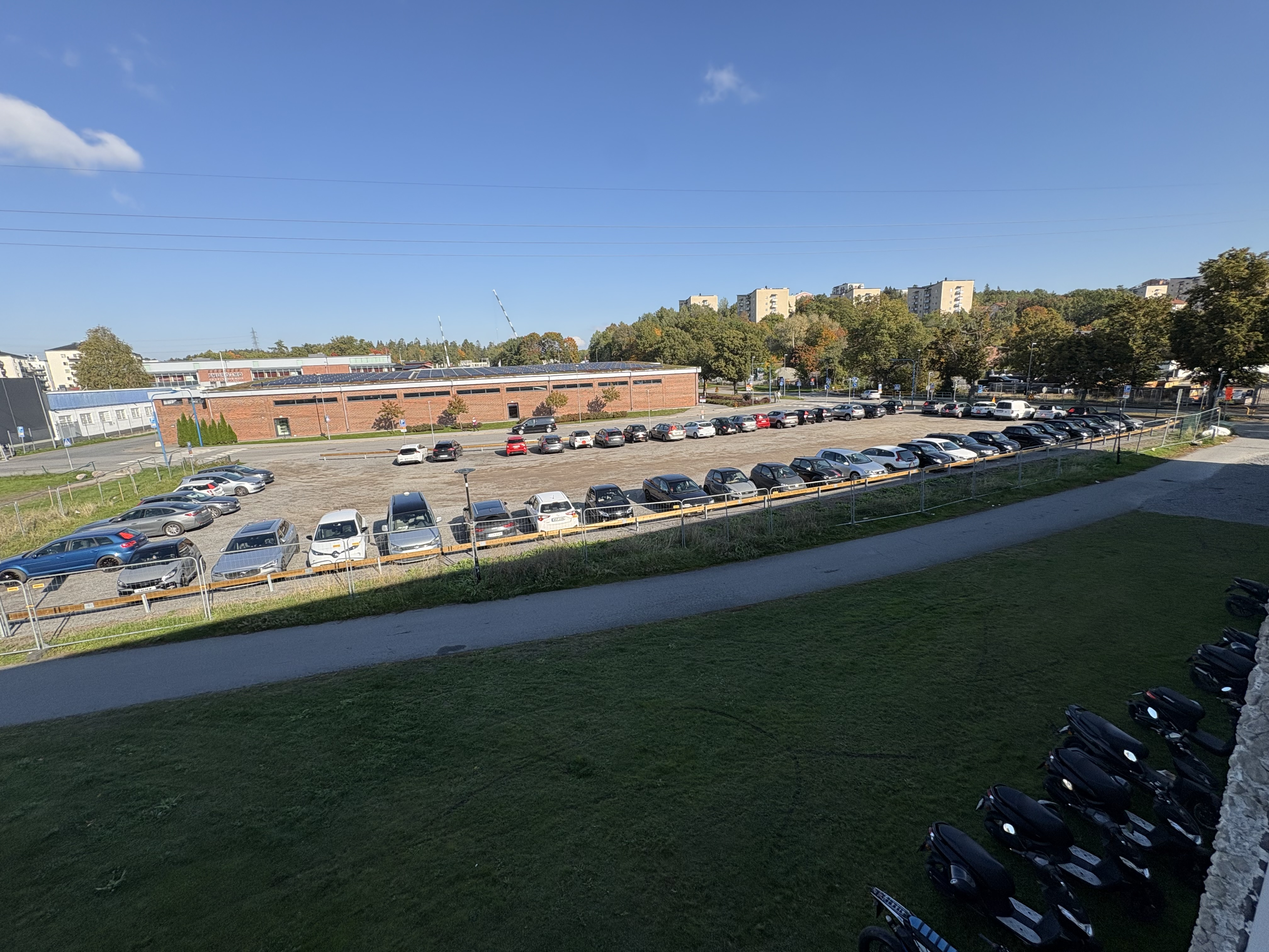Car: (0, 533, 136, 582), (209, 519, 295, 584), (120, 538, 197, 601), (381, 492, 446, 563), (311, 511, 368, 566), (640, 468, 714, 510), (80, 508, 209, 529), (459, 499, 518, 542), (585, 479, 636, 526), (522, 492, 580, 532), (703, 463, 758, 500), (751, 457, 807, 491), (909, 437, 971, 467), (930, 433, 997, 460), (822, 450, 885, 478), (791, 454, 845, 485), (139, 495, 241, 511), (179, 476, 273, 492), (863, 446, 919, 469), (896, 444, 949, 468), (509, 413, 564, 432), (970, 431, 1019, 452), (1068, 416, 1107, 440), (1004, 426, 1051, 445), (1089, 413, 1126, 436), (199, 467, 276, 478), (433, 438, 466, 462), (397, 442, 429, 466), (1029, 421, 1067, 441), (1048, 420, 1090, 438), (1106, 410, 1145, 429), (996, 399, 1032, 419), (768, 406, 799, 429), (653, 419, 686, 438), (503, 434, 529, 458), (536, 433, 565, 454), (687, 419, 716, 440), (178, 482, 224, 495), (568, 430, 595, 451), (596, 428, 624, 448), (730, 412, 758, 431), (793, 406, 816, 429), (624, 423, 649, 444), (711, 417, 739, 435), (835, 404, 864, 420), (1036, 403, 1065, 418), (971, 401, 996, 418), (942, 402, 967, 417), (860, 403, 886, 417), (882, 400, 905, 415), (752, 411, 771, 428), (817, 405, 834, 423), (1069, 405, 1096, 416), (922, 400, 942, 413), (860, 388, 880, 400), (209, 580, 229, 585), (128, 525, 136, 530)
